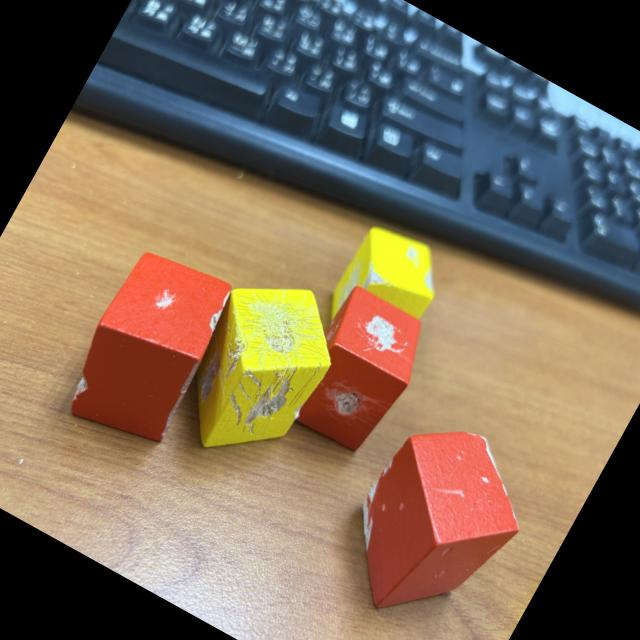broken: (319, 400, 550, 640), (156, 256, 358, 482), (52, 238, 246, 460), (278, 282, 438, 459), (317, 215, 455, 364)
